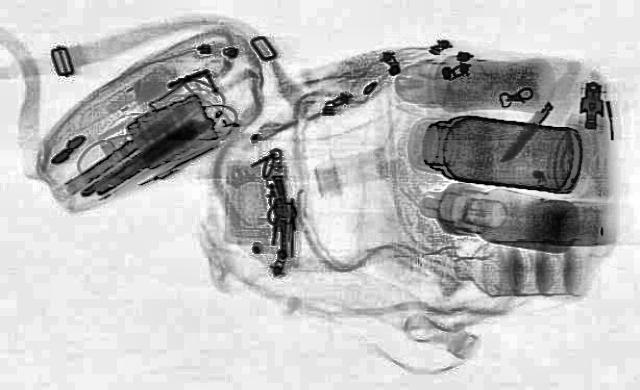Knife: (495, 100, 557, 162)
